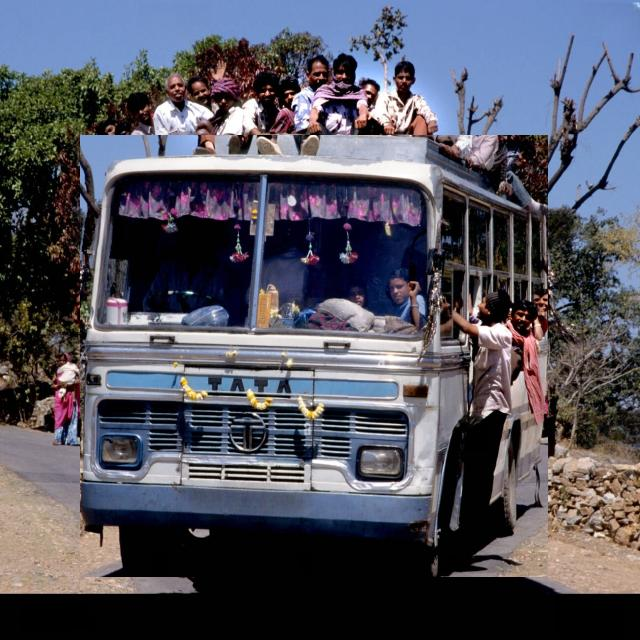bus: (80, 136, 548, 577)
